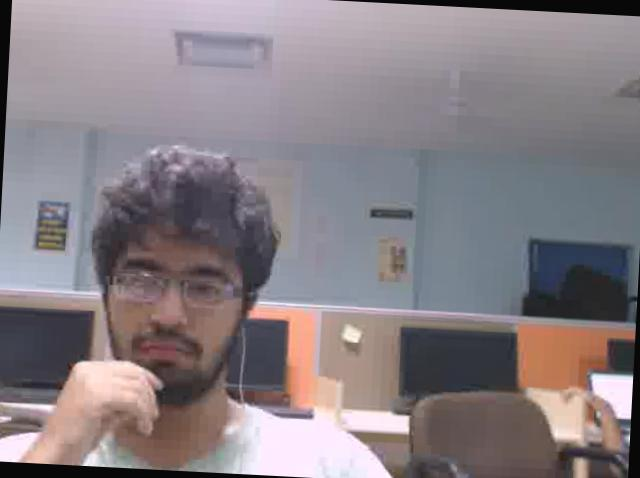bosan: (100, 220, 249, 396)
